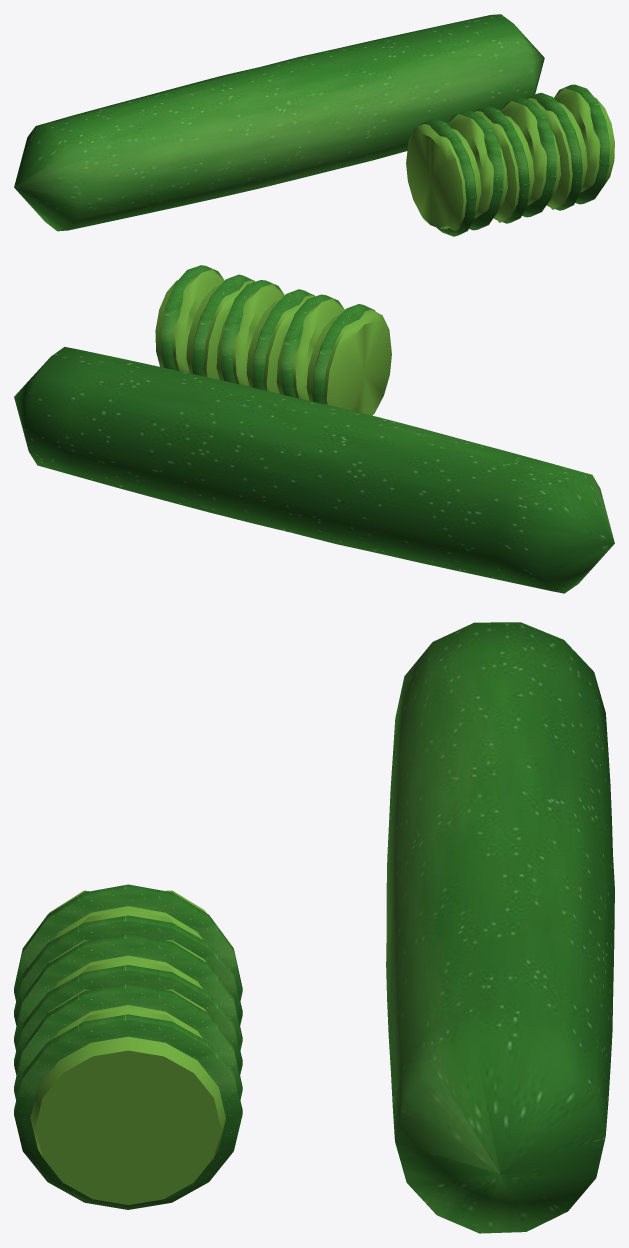
Rendered from veg_cucumbers_sliced.glb.
The picture shows the model from 3 angles, top to bottom: view 1: azimuth 30°, elevation 25°; view 2: azimuth 150°, elevation 25°; view 3: azimuth 270°, elevation 25°; orthographic projection. The views are drawn at different scales.
Parts seen in each view (by area): view 1: veg_cucumbers_sliced; view 2: veg_cucumbers_sliced; view 3: veg_cucumbers_sliced.
Boxes of the visible parts, x1,y1,x2,y2 form: veg_cucumbers_sliced: (14,14,614,236); veg_cucumbers_sliced: (14,265,614,593); veg_cucumbers_sliced: (14,622,614,1233).
Bounding box in the file's own units: 0.2199 × 0.0432 × 0.1131.
Materials: 2 (1 with a texture image).
